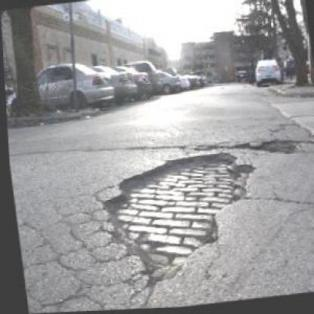Hueco: (88, 148, 264, 293), (252, 138, 302, 162)
